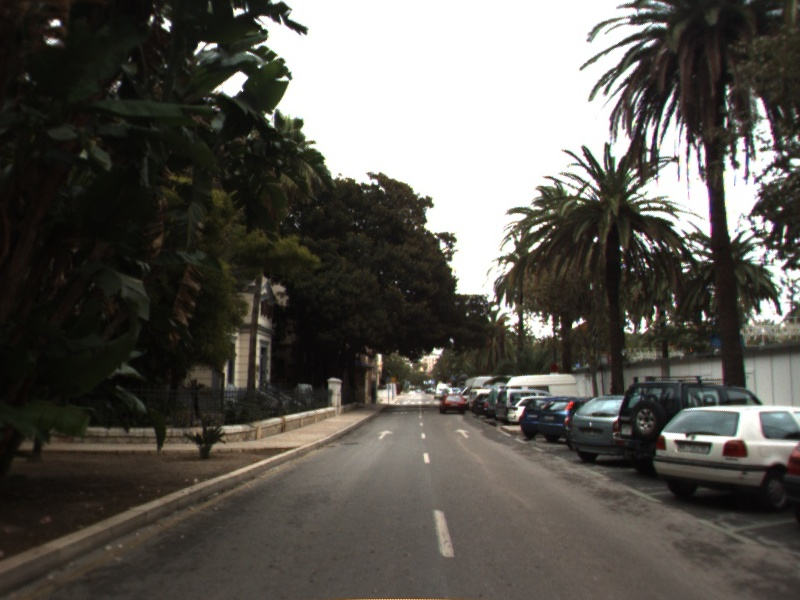STRAIGHT: (452, 426, 473, 440), (375, 428, 396, 441)
